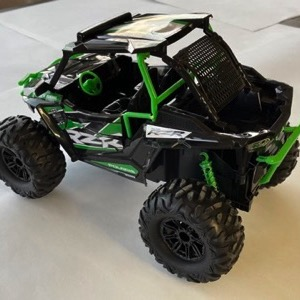polaris: (2, 12, 299, 285)
